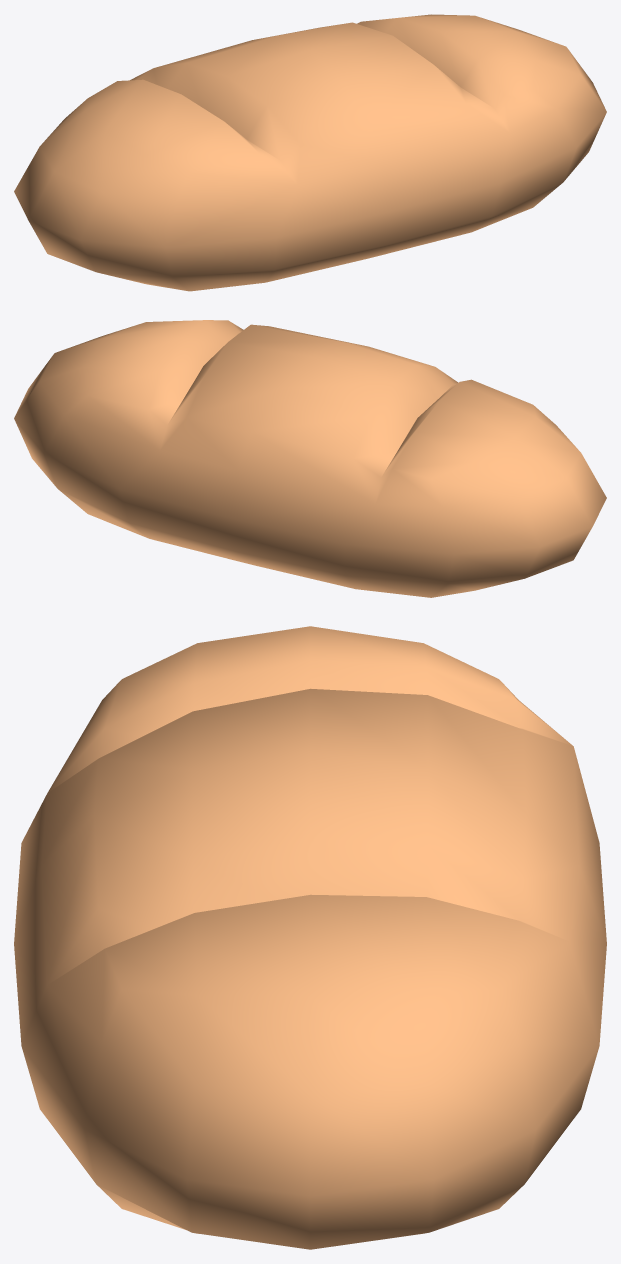
The model's file is Baguette.fbx.
3 views of the same model, one above another, from view 1: azimuth 30°, elevation 25°; view 2: azimuth 150°, elevation 25°; view 3: azimuth 270°, elevation 25° (orthographic). The views are drawn at different scales.
Visible parts, largest first — view 1: Baguette; view 2: Baguette; view 3: Baguette.
Boxes of the visible parts, left/top/right/bottom form: Baguette: left=14, top=14, right=606, bottom=291; Baguette: left=14, top=320, right=606, bottom=597; Baguette: left=14, top=626, right=606, bottom=1249.
Bounding box in the file's own units: 0.3184 × 0.648 × 0.1857.
